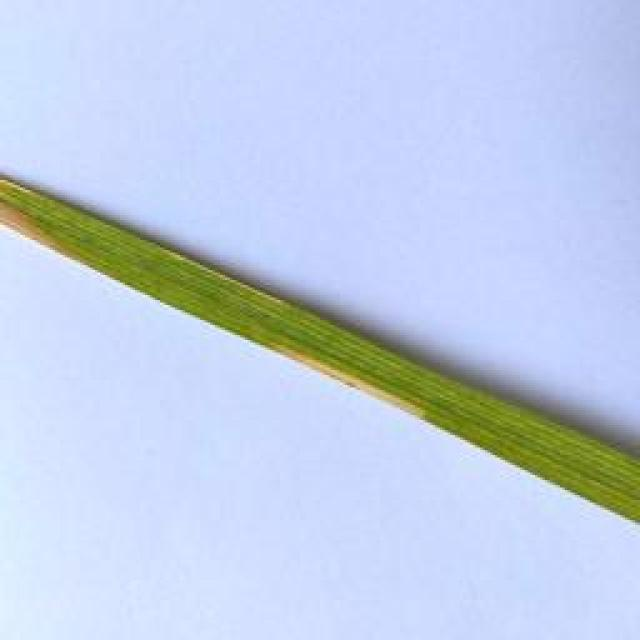Bacterial_Blight: (272, 336, 436, 435), (0, 199, 66, 258)
